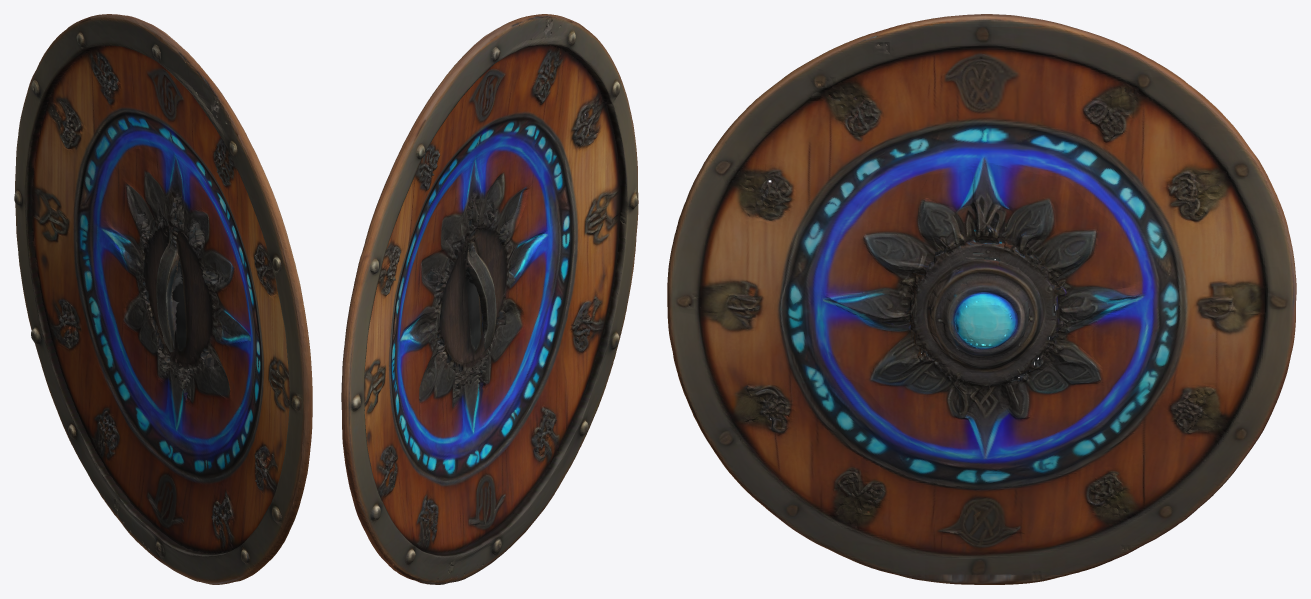
The model's file is Runic_shield_round_w_0912122430_texture.fbx.
3 views of the same model, side by side, from view 1: azimuth 30°, elevation 25°; view 2: azimuth 150°, elevation 25°; view 3: azimuth 270°, elevation 25° (orthographic). The views are drawn at different scales.
Visible parts, largest first — view 1: temp; view 2: temp; view 3: temp.
Part boxes in pixels (x1,y1,x2,y2): temp: (14,14,312,584); temp: (341,14,638,584); temp: (667,14,1296,584).
Bounding box in the file's own units: 1.06 × 10 × 10.02.
1 material, 1 textured.
